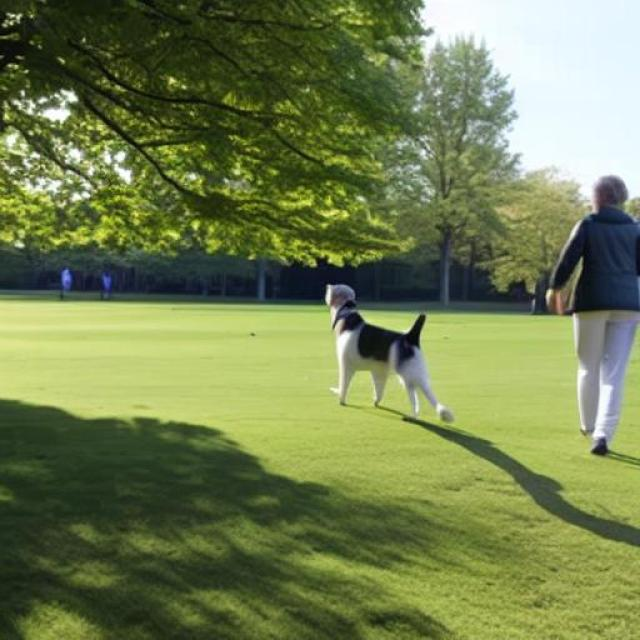Unleashed_Dog: (325, 278, 638, 423)
